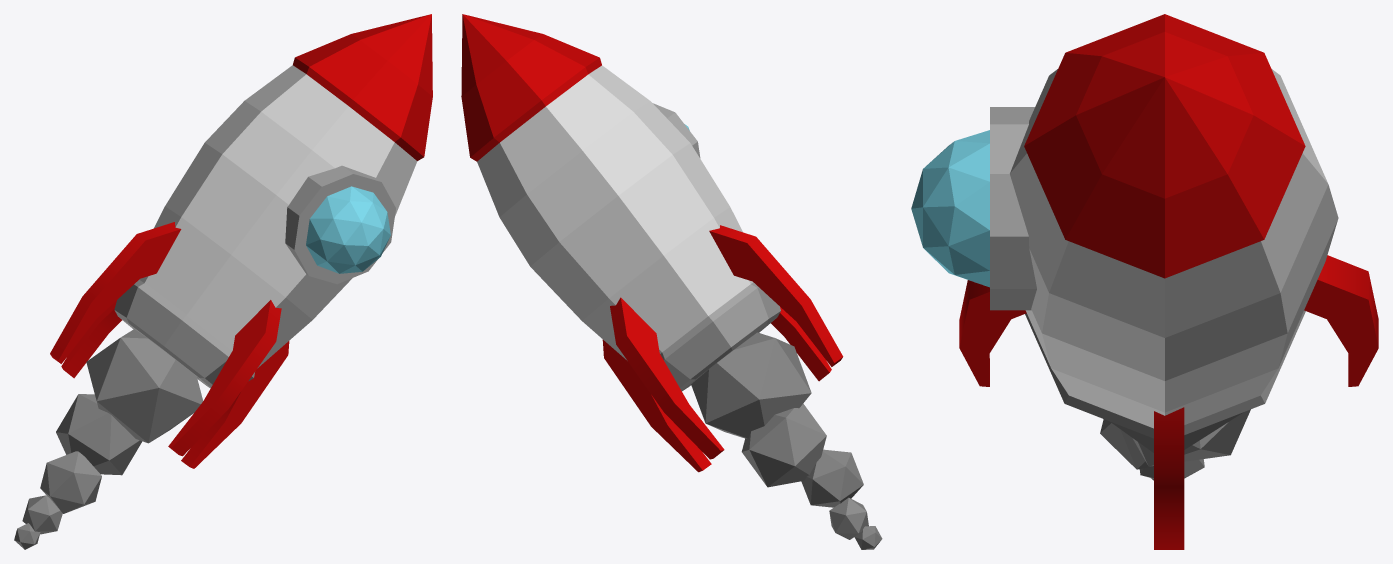
Rendered from rocket_ship_pixels_crumble.glb.
3 views of the same model, side by side, from view 1: azimuth 30°, elevation 25°; view 2: azimuth 150°, elevation 25°; view 3: azimuth 270°, elevation 25° (orthographic). The views are drawn at different scales.
Visible parts, largest first — view 1: Rocket Ship 01_Material #27_0_6, Rocket Ship 01_Material #28_0_5, Rocket Ship 01_Material #42_0_8, Rocket Ship 01_Material #29_0_7, Rocket Ship 01_Material #30_0_9; view 2: Rocket Ship 01_Material #27_0_6, Rocket Ship 01_Material #28_0_5, Rocket Ship 01_Material #42_0_8, Rocket Ship 01_Material #29_0_7; view 3: Rocket Ship 01_Material #28_0_5, Rocket Ship 01_Material #27_0_6, Rocket Ship 01_Material #29_0_7, Rocket Ship 01_Material #30_0_9, Rocket Ship 01_Material #42_0_8.
Part boxes in pixels (x1,y1,x2,y2): Rocket Ship 01_Material #27_0_6: (139,65,417,368); Rocket Ship 01_Material #28_0_5: (50,14,432,468); Rocket Ship 01_Material #42_0_8: (14,329,202,549); Rocket Ship 01_Material #29_0_7: (114,165,395,388); Rocket Ship 01_Material #30_0_9: (306,186,390,273); Rocket Ship 01_Material #27_0_6: (477,65,753,360); Rocket Ship 01_Material #28_0_5: (461,14,843,472); Rocket Ship 01_Material #42_0_8: (691,332,882,549); Rocket Ship 01_Material #29_0_7: (653,103,780,391); Rocket Ship 01_Material #28_0_5: (959,14,1378,549); Rocket Ship 01_Material #27_0_6: (1010,69,1338,428); Rocket Ship 01_Material #29_0_7: (990,107,1305,438); Rocket Ship 01_Material #30_0_9: (911,130,989,287); Rocket Ship 01_Material #42_0_8: (1100,409,1250,480).
Size of the model in its own units: 1.35 by 1.36 by 0.7715.
